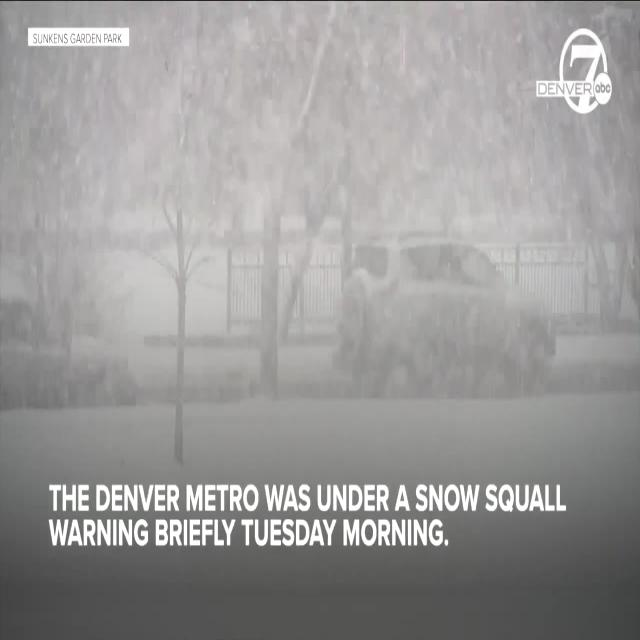Car: (344, 231, 559, 396)
